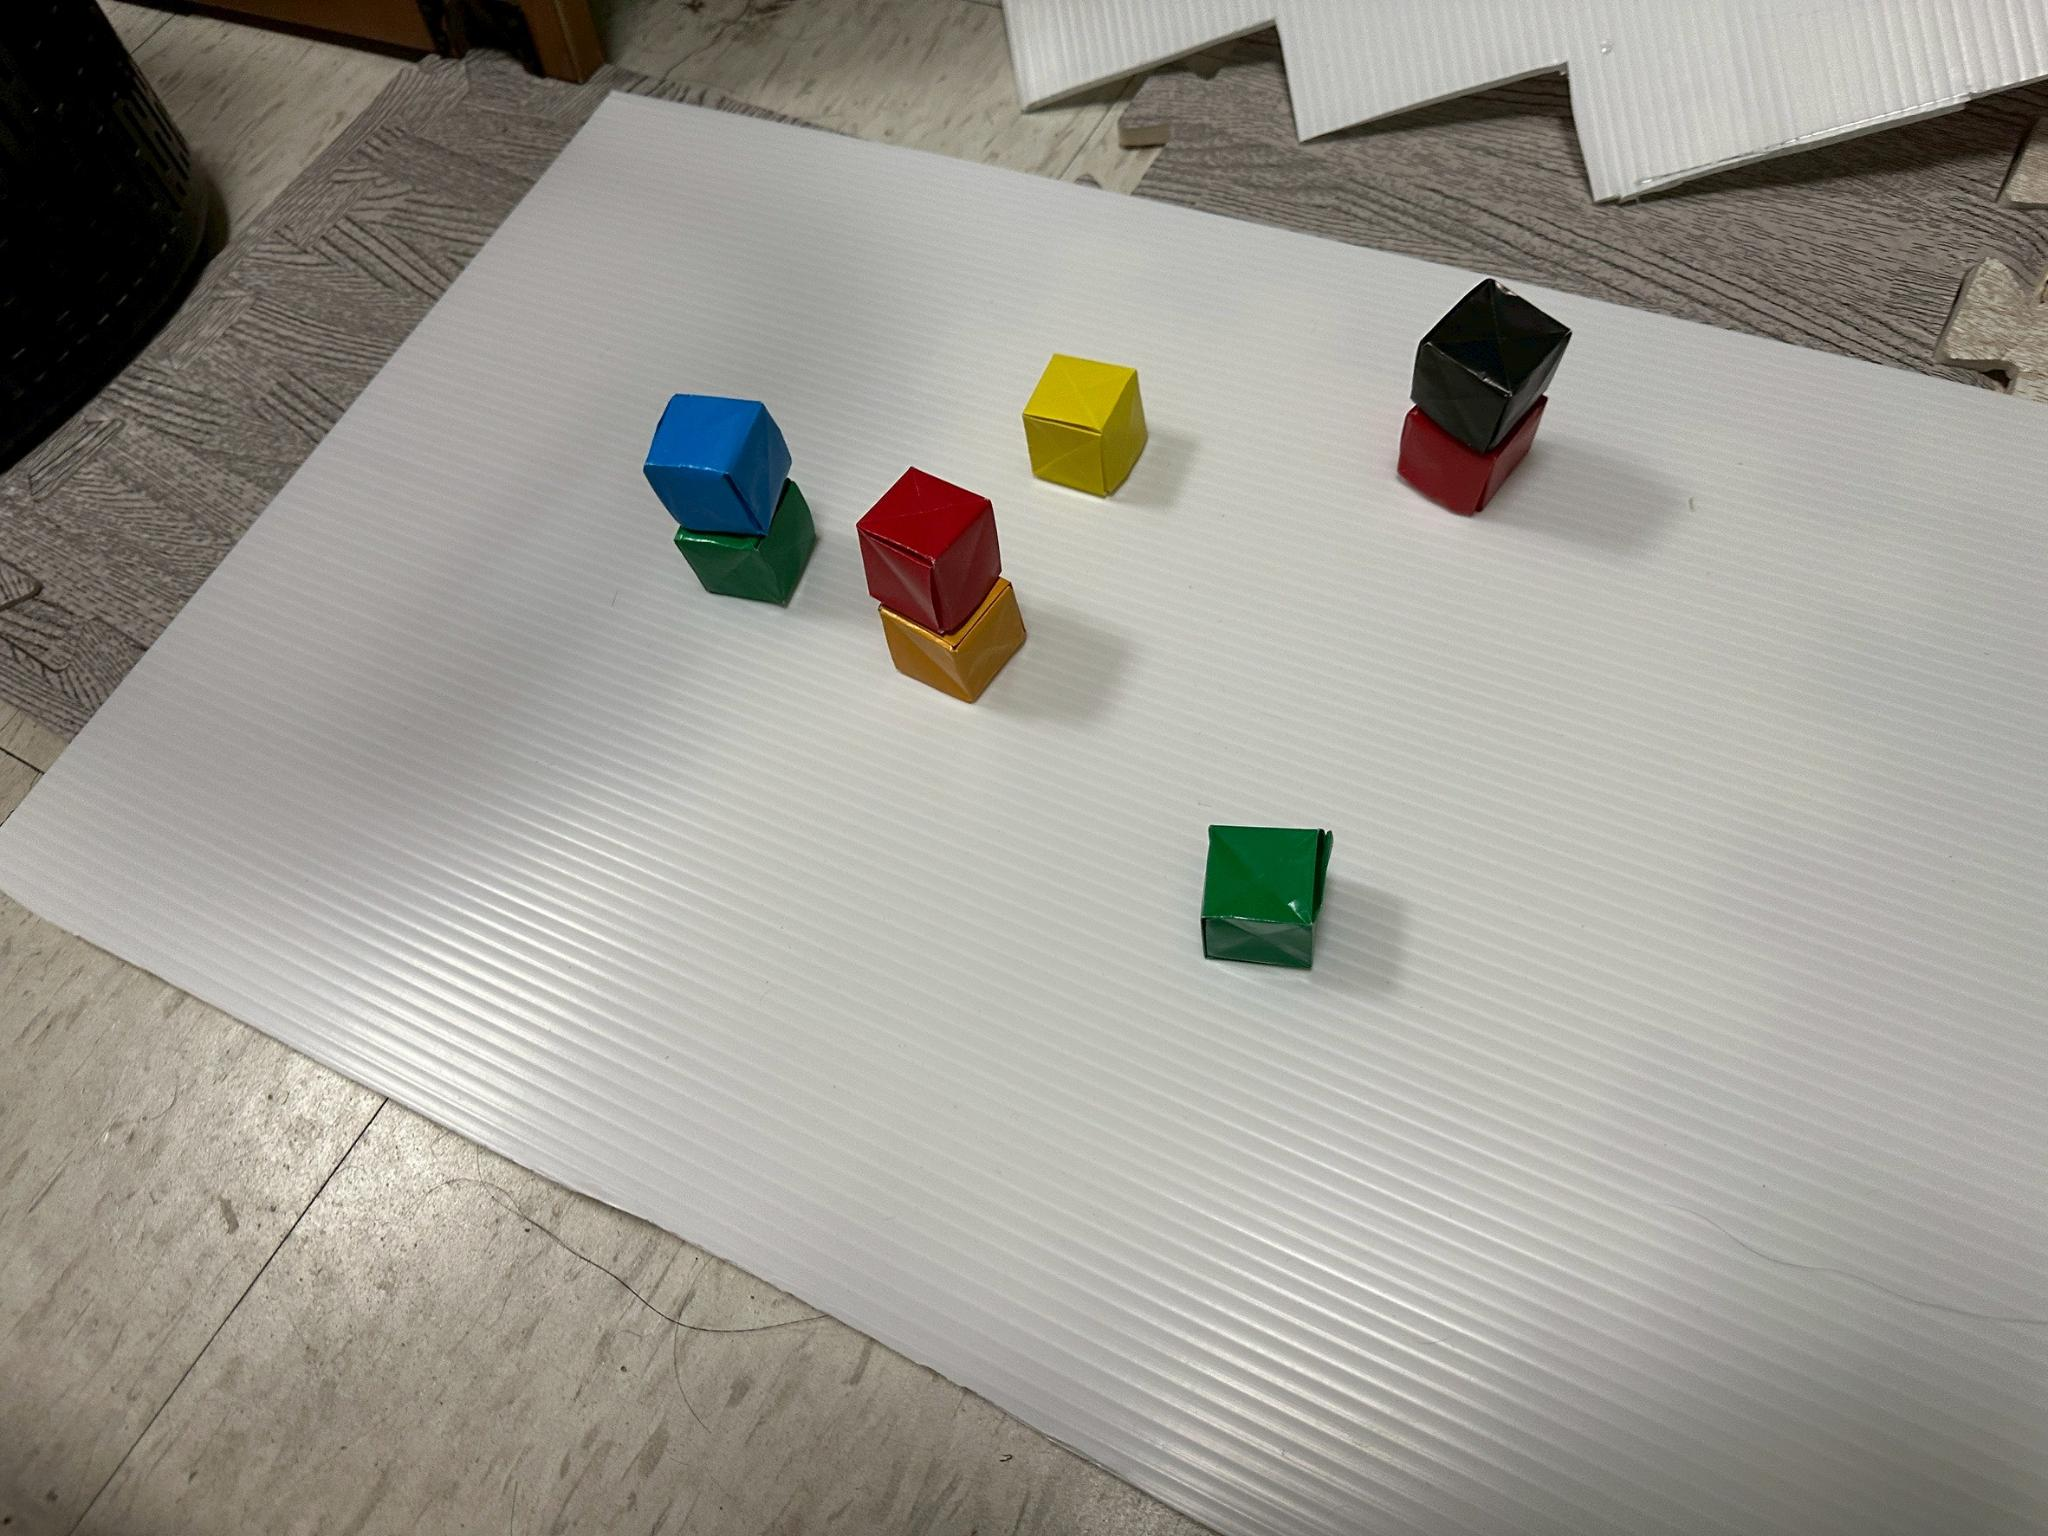cube: (1411, 279, 1571, 450), (858, 468, 1000, 636), (643, 394, 790, 539), (1203, 824, 1332, 968), (879, 579, 1026, 702), (676, 479, 818, 605), (1398, 399, 1546, 516), (1022, 355, 1147, 495)
